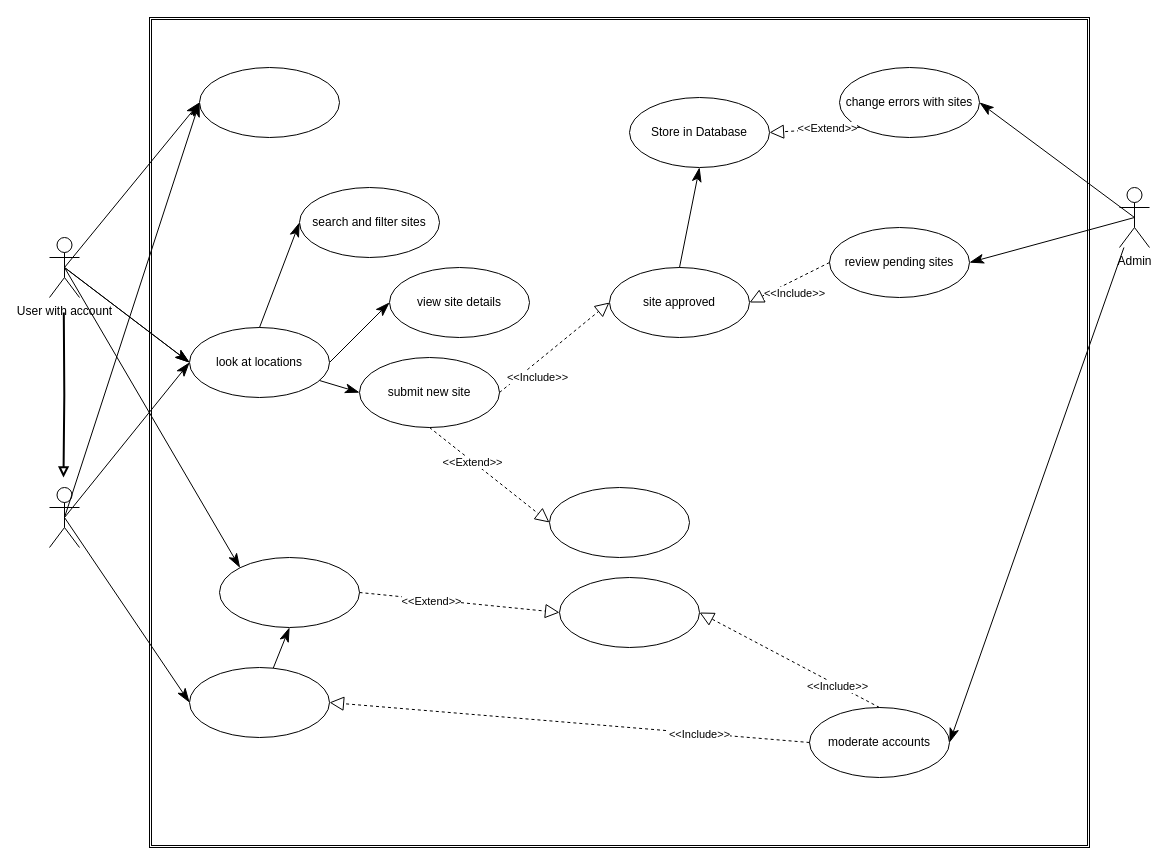
This 1169x865 diagram has some shape labels left out. Each missing label, with the centre of its shape:
change language: [269,102]
create accoount: [259,702]
login: [289,592]
Reset password: [629,612]
upload photos: [619,522]
User: [64,517]
